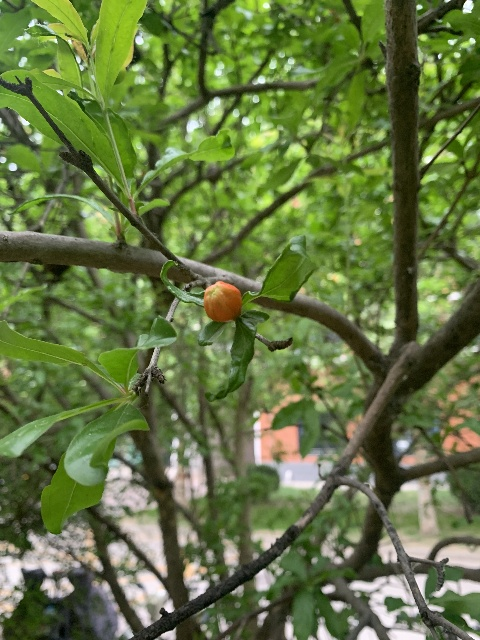bud: (202, 280, 242, 323)
